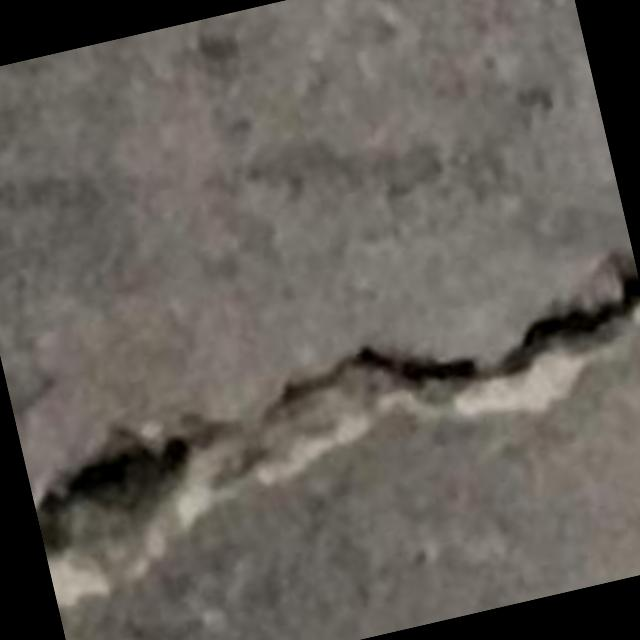crack: (35, 252, 639, 608)
